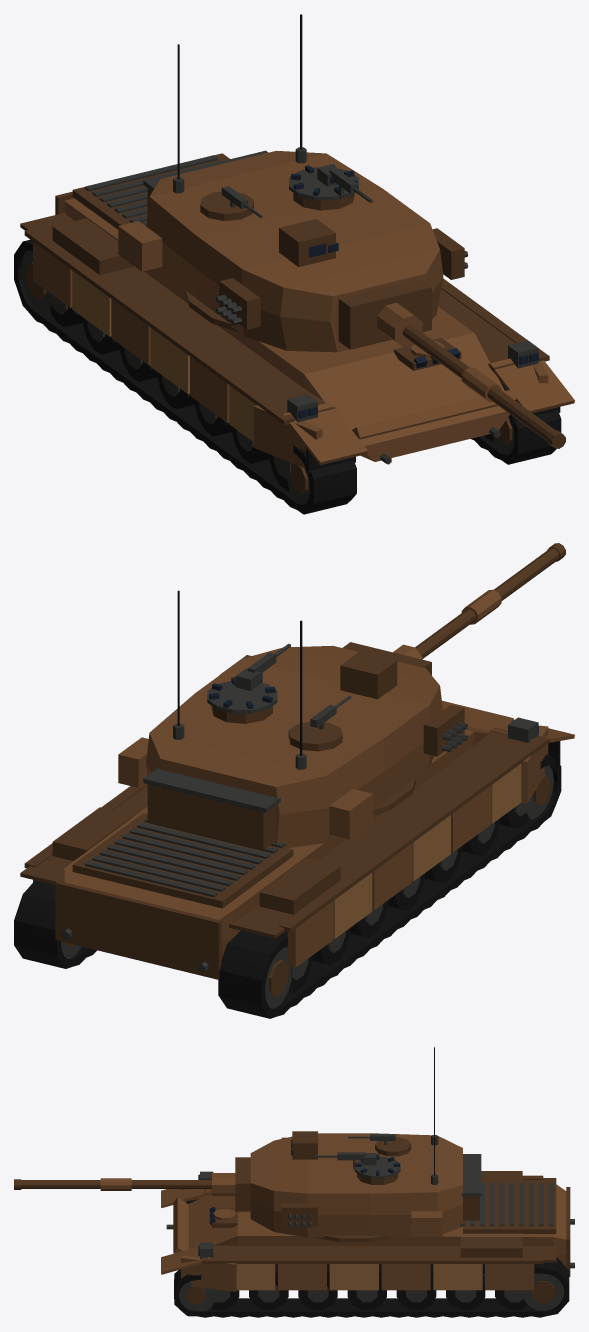
Rendered from leopard-2a4-cafe.fbx.
3 views of the same model, one above another, from view 1: azimuth 30°, elevation 25°; view 2: azimuth 150°, elevation 25°; view 3: azimuth 270°, elevation 25° (orthographic). The views are drawn at different scales.
Visible parts, largest first — view 1: Chasis, Torreta; view 2: Chasis, Torreta; view 3: Chasis, Torreta.
Part boxes in pixels (box(x1,y1,x2,y2)): Chasis: box(14, 153, 574, 514); Torreta: box(118, 14, 565, 448); Chasis: box(14, 700, 574, 1018); Torreta: box(118, 543, 565, 849); Chasis: box(161, 1171, 574, 1317); Torreta: box(14, 1047, 481, 1237).
Bounding box in the file's own units: 4.02 × 4.49 × 10.83.
